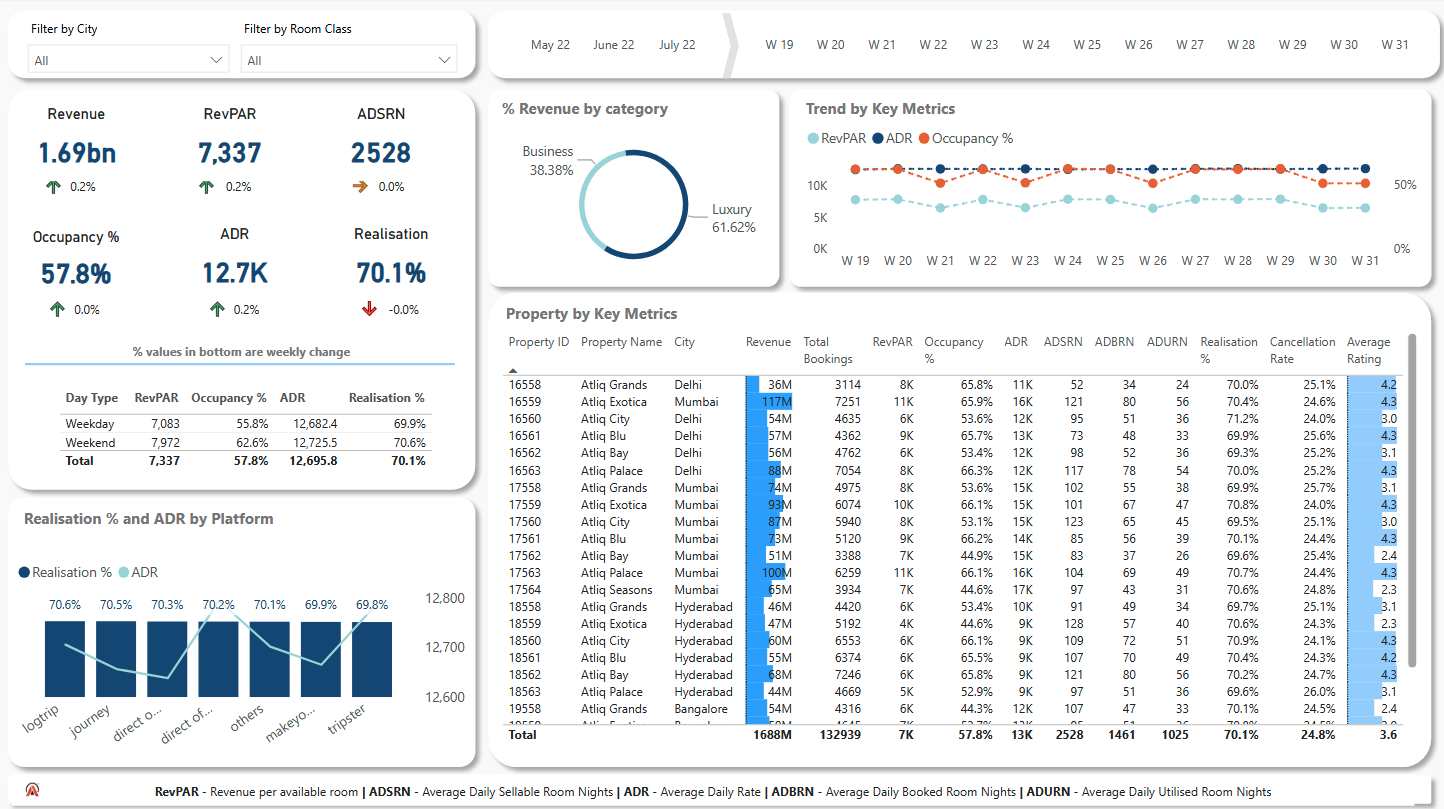

The page's visual inventory and layout, read from the dashboard file:
{"tool":"powerbi","page":{"name":"Final Dashboard","canvas":[1280,720],"ordinal":1},"visuals":[{"type":"shape","box":[0,2.9,429.8,77.9],"z":0},{"type":"card","title":"Revenue","fields":{"Values":["Key Measures.Revenue"]},"box":[13.5,95.2,111.5,67.3],"z":0,"group":"g3"},{"type":"tableEx","fields":{"Values":["Key Measures.Revenue WoW change %"]},"box":[30.8,131.7,75,57.7],"z":0,"group":"g2"},{"type":"card","title":"Occupancy %","fields":{"Values":["Key Measures.Occupancy %"]},"box":[22,203.7,93.3,64.4],"z":0,"group":"g4"},{"type":"tableEx","fields":{"Values":["Key Measures.Occupancy WoW change %"]},"box":[34.6,239.5,67.3,57.7],"z":0,"group":"g1"},{"type":"shape","box":[423.1,2.9,856.7,77.9],"z":1000},{"type":"card","title":"RevPAR","fields":{"Values":["Key Measures.RevPAR"]},"box":[153.4,95.2,101.9,67.3],"z":1000,"group":"g3"},{"type":"tableEx","fields":{"Values":["Key Measures.RevPAR WoW change %"]},"box":[165.4,131.7,73.1,57.7],"z":1000,"group":"g2"},{"type":"card","title":"ADR","fields":{"Values":["Key Measures.ADR"]},"box":[161.1,201,94.2,67.3],"z":1000,"group":"g4"},{"type":"tableEx","fields":{"Values":["Key Measures.ADR WoW change %"]},"box":[175.9,239.5,66.3,57.7],"z":1000,"group":"g1"},{"type":"slicer","fields":{"Values":["dim_hotels.city"]},"box":[21.2,16.3,187.5,51],"z":2000},{"type":"card","title":"ADSRN","fields":{"Values":["Key Measures.ADSRN"]},"box":[283.7,95.2,107.7,67.3],"z":2000,"group":"g3"},{"type":"tableEx","fields":{"Values":["Key Measures.ADSRN WoW change %"]},"box":[301,131.7,73.1,58.7],"z":2000,"group":"g2"},{"type":"card","title":"Realisation","fields":{"Values":["Key Measures.Realisation %"]},"box":[301,201,90.4,67.3],"z":2000,"group":"g4"},{"type":"tableEx","fields":{"Values":["Key Measures.Realisation WoW change %"]},"box":[309.6,239.5,74,57.7],"z":2000,"group":"g1"},{"type":"slicer","fields":{"Values":["dim_rooms.room_class"]},"box":[208.7,16.3,201,55.8],"z":3000},{"type":"slicer","fields":{"Values":["dim_date.month-year"]},"box":[438.5,19.2,205.8,45.2],"z":4000},{"type":"slicer","fields":{"Values":["dim_date.week no"]},"box":[646.2,25,626,33.7],"z":5000},{"type":"shape","box":[638.5,14.4,15.4,57.7],"z":6000},{"type":"shape","box":[0,72.1,429.8,371.2],"z":7000},{"type":"shape","box":[423.1,72.1,275,192.3],"z":8000},{"type":"shape","box":[688.5,72.1,583.7,192.3],"z":9000},{"type":"shape","box":[423.1,251,849,436.5],"z":10000},{"type":"shape","box":[0,676.9,1272.1,43.3],"z":11000},{"type":"shape","box":[0,431.7,429.8,255.8],"z":12000},{"type":"donutChart","fields":{"Category":["dim_hotels.category"],"Y":["Key Measures.Revenue"]},"box":[442.3,114.4,235.6,136.5],"z":13000},{"type":"lineChart","fields":{"Category":["dim_date.week no"],"Y":["Key Measures.RevPAR","Key Measures.ADR"],"Y2":["Key Measures.Occupancy %"]},"box":[707.7,104.8,549,146.2],"z":14000},{"type":"lineClusteredColumnComboChart","fields":{"Category":["fact_bookings.booking_platform"],"Y2":["Key Measures.ADR"],"Y":["Key Measures.Realisation %"]},"box":[12.5,487.5,403.8,185.6],"z":15000},{"type":"tableEx","fields":{"Values":["dim_hotels.property_id","dim_hotels.property_name","dim_hotels.city","Key Measures.Revenue","Key Measures.Total bookings","Key Measures.RevPAR","Key Measures.Occupancy rate","Key Measures.ADR","Key Measures.ADSRN","Key Measures.ADBRN","Key Measures.ADUR","Key Measures.Realisation %"]},"box":[438.5,290.4,817.3,371.2],"z":16000},{"type":"textbox","box":[438.5,83.7,246.2,27.9],"z":17000},{"type":"textbox","box":[706.7,83.7,549,27.9],"z":18000},{"type":"textbox","box":[442.3,264.4,805.8,27.9],"z":19000},{"type":"textbox","box":[17.3,445.2,393.3,27.9],"z":20000},{"type":"textbox","box":[12.5,684.6,1235.6,27.9],"z":21000},{"type":"group","id":"g1","title":"Group 3","box":[34.6,239.5,349,57.7],"z":22000},{"type":"group","id":"g2","title":"Group 4","box":[30.8,131.7,343.3,58.7],"z":23000},{"type":"group","id":"g3","title":"Group 1","box":[13.5,95.2,377.9,67.3],"z":24000},{"type":"group","id":"g4","title":"Group 2","box":[22,201,369.4,67.3],"z":25000},{"type":"tableEx","fields":{"Values":["dim_date.day type","Key Measures.RevPAR","Key Measures.Occupancy %","Key Measures.ADR","Key Measures.Realisation %"]},"box":[48.1,340.4,343.3,82.7],"z":26000},{"type":"textbox","box":[12.5,297.1,403.8,27.9],"z":27000},{"type":"shape","box":[24,317.3,378.8,12.5],"z":28000},{"type":"image","box":[19.6,687.4,22.6,21.7],"z":29000}]}

Visuals, with their boxes in screenshot pixels (x1, y1, x2, y2), scaled from the page's 1280x720 canvas onto the 1444x809 screenshot:
shape: 0,3,485,91
"Revenue" card: 15,107,141,183
tableEx - Key Measures.Revenue WoW change %: 35,148,119,213
"Occupancy %" card: 25,229,130,301
tableEx - Key Measures.Occupancy WoW change %: 39,269,115,334
shape: 477,3,1443,91
"RevPAR" card: 173,107,288,183
tableEx - Key Measures.RevPAR WoW change %: 187,148,269,213
"ADR" card: 182,226,288,301
tableEx - Key Measures.ADR WoW change %: 198,269,273,334
slicer - dim_hotels.city: 24,18,235,76
"ADSRN" card: 320,107,442,183
tableEx - Key Measures.ADSRN WoW change %: 340,148,422,214
"Realisation" card: 340,226,442,301
tableEx - Key Measures.Realisation WoW change %: 349,269,433,334
slicer - dim_rooms.room_class: 235,18,462,81
slicer - dim_date.month-year: 495,22,727,72
slicer - dim_date.week no: 729,28,1435,66
shape: 720,16,738,81
shape: 0,81,485,498
shape: 477,81,788,297
shape: 777,81,1435,297
shape: 477,282,1435,772
shape: 0,761,1435,808
shape: 0,485,485,772
donutChart - dim_hotels.category x Key Measures.Revenue: 499,129,765,282
lineChart - dim_date.week no x Key Measures.RevPAR: 798,118,1418,282
lineClusteredColumnComboChart - fact_bookings.booking_platform x Key Measures.ADR: 14,548,470,756
tableEx - dim_hotels.property_id x dim_hotels.property_name: 495,326,1417,743
textbox: 495,94,772,125
textbox: 797,94,1417,125
textbox: 499,297,1408,328
textbox: 20,500,463,532
textbox: 14,769,1408,801
"Group 3" group: 39,269,433,334
"Group 4" group: 35,148,422,214
"Group 1" group: 15,107,442,183
"Group 2" group: 25,226,442,301
tableEx - dim_date.day type x Key Measures.RevPAR: 54,382,442,475
textbox: 14,334,470,365
shape: 27,357,454,371
image: 22,772,48,797
